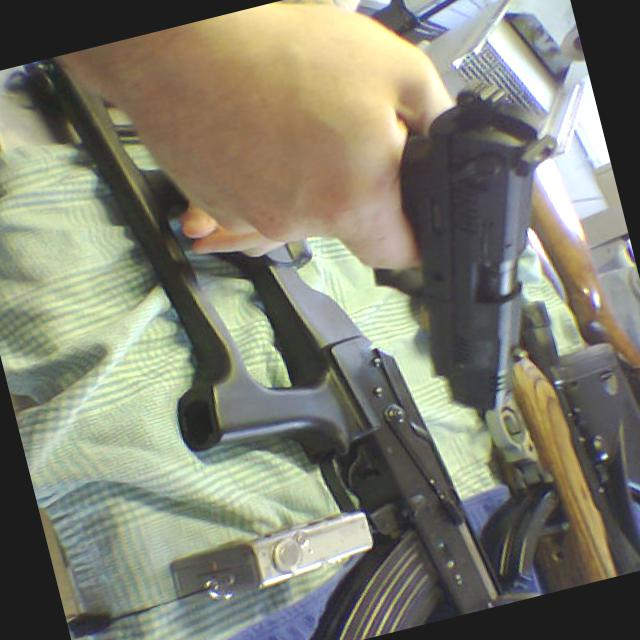handgun: (337, 54, 617, 428)
